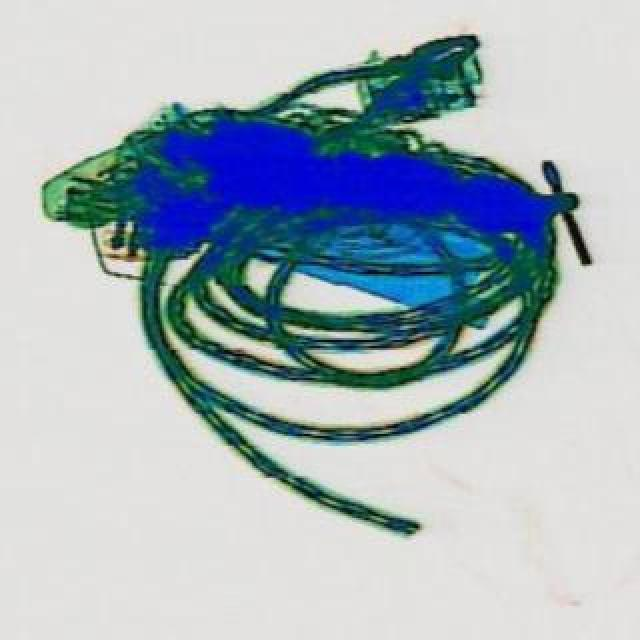wrench: (246, 10, 494, 174)
